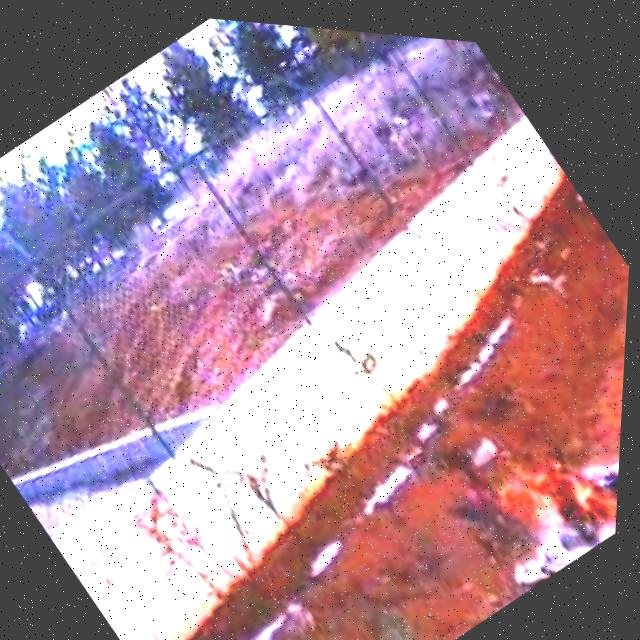Fire: (463, 396, 625, 586)
